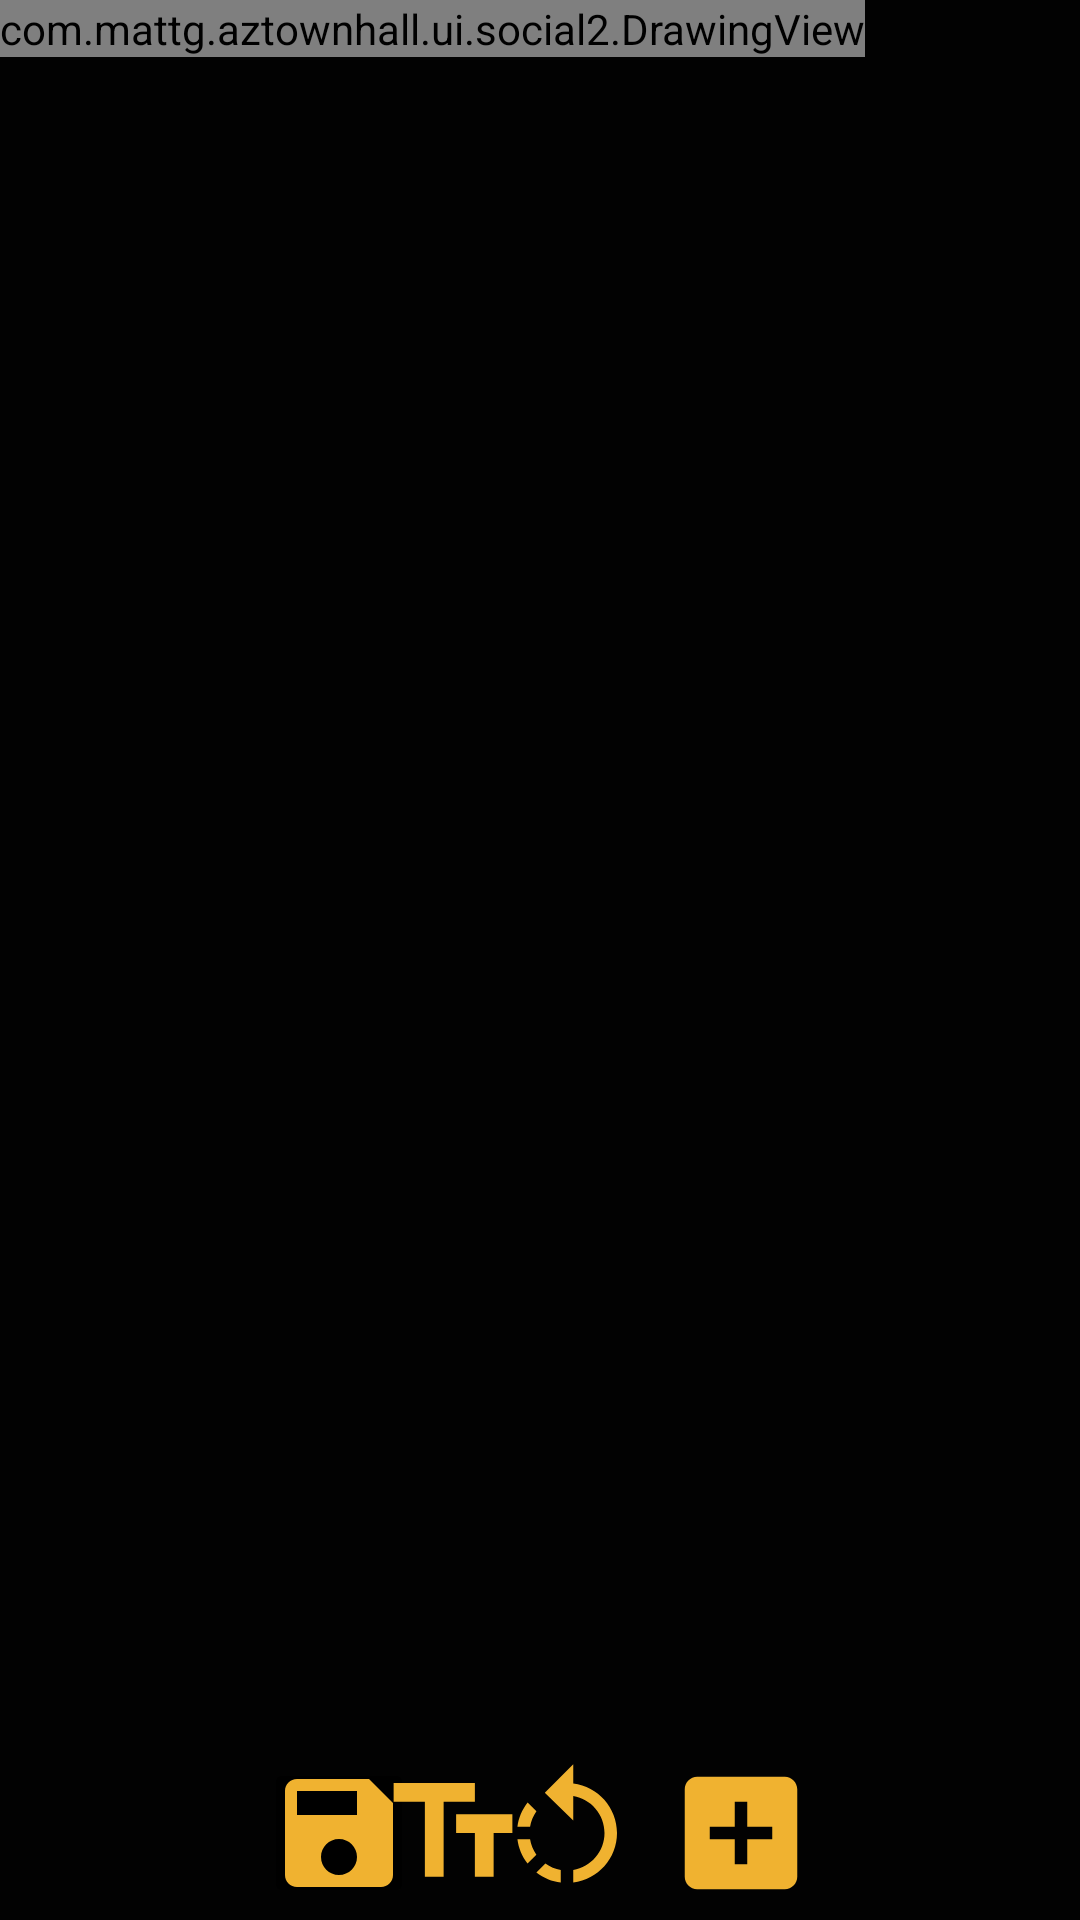

Icons on this 1080px×1920px Android screen, each with the point to tap as (x=x, y=y):
add box: (x=741, y=1833)
Rotate image: (x=567, y=1823)
Save: (x=349, y=1833)
text fields: (x=453, y=1835)
